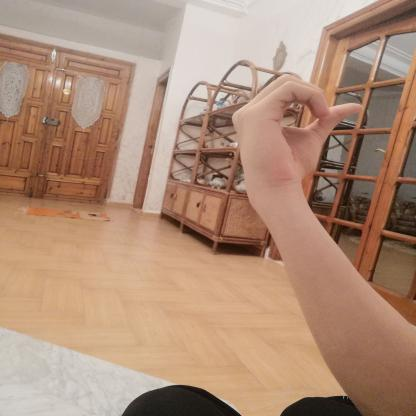WAW: (217, 65, 375, 200)
